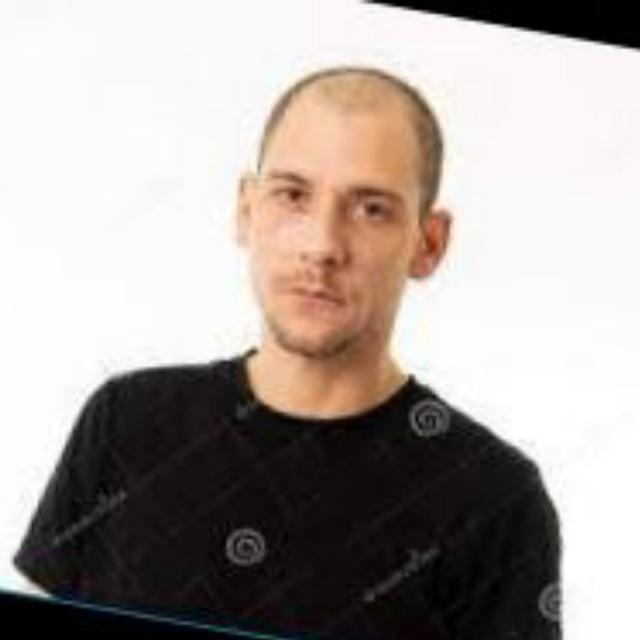Natural: (239, 66, 458, 368)
